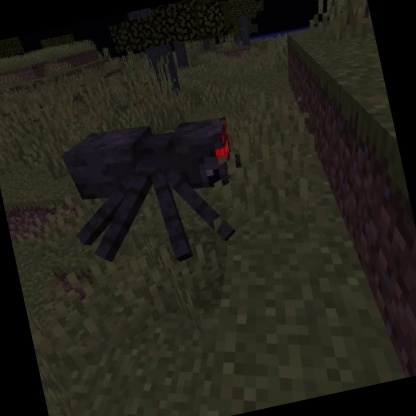spider: (51, 98, 264, 287)
